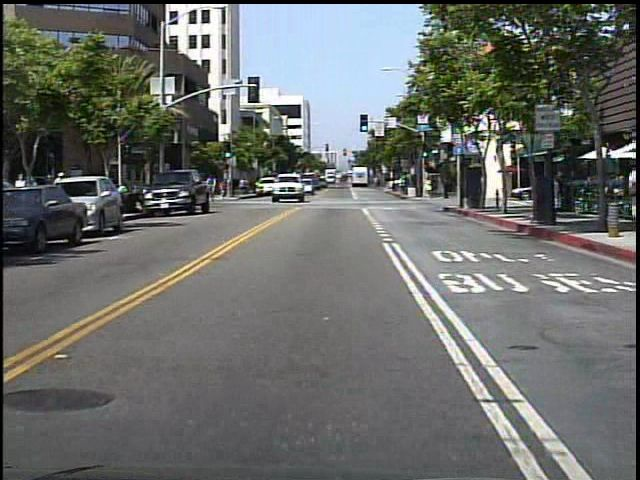person: (209, 174, 220, 204), (422, 175, 434, 199)
